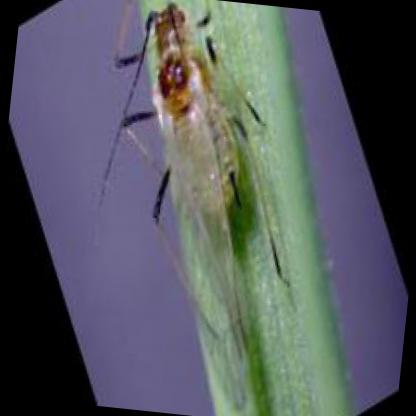schizaphis graminum: (118, 2, 249, 412)
